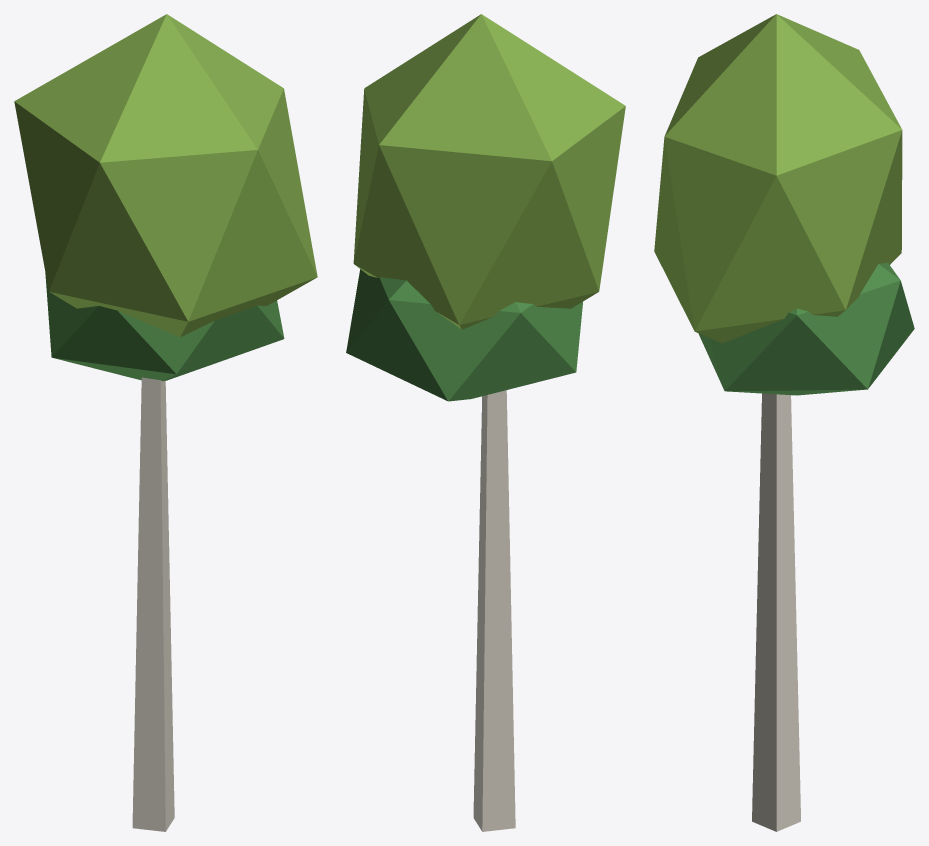
The model's file is tree_birch_lod.glb.
The picture shows the model from 3 angles, left to right: view 1: azimuth 30°, elevation 25°; view 2: azimuth 150°, elevation 25°; view 3: azimuth 270°, elevation 25°; orthographic projection.
Parts seen in each view (by area): view 1: Body; view 2: Body; view 3: Body.
Part boxes in pixels (bbox=[...]): Body: bbox=[14, 14, 317, 831]; Body: bbox=[346, 14, 625, 831]; Body: bbox=[654, 14, 914, 831].
Bounding box in the file's own units: 2.67 × 8.76 × 2.54.
